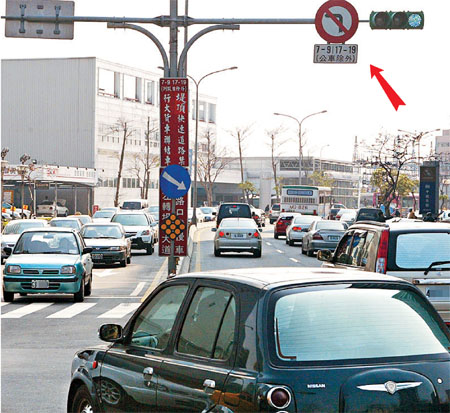No_left_turn: (315, 1, 359, 43)
Traffic_light_green: (370, 10, 424, 29)
